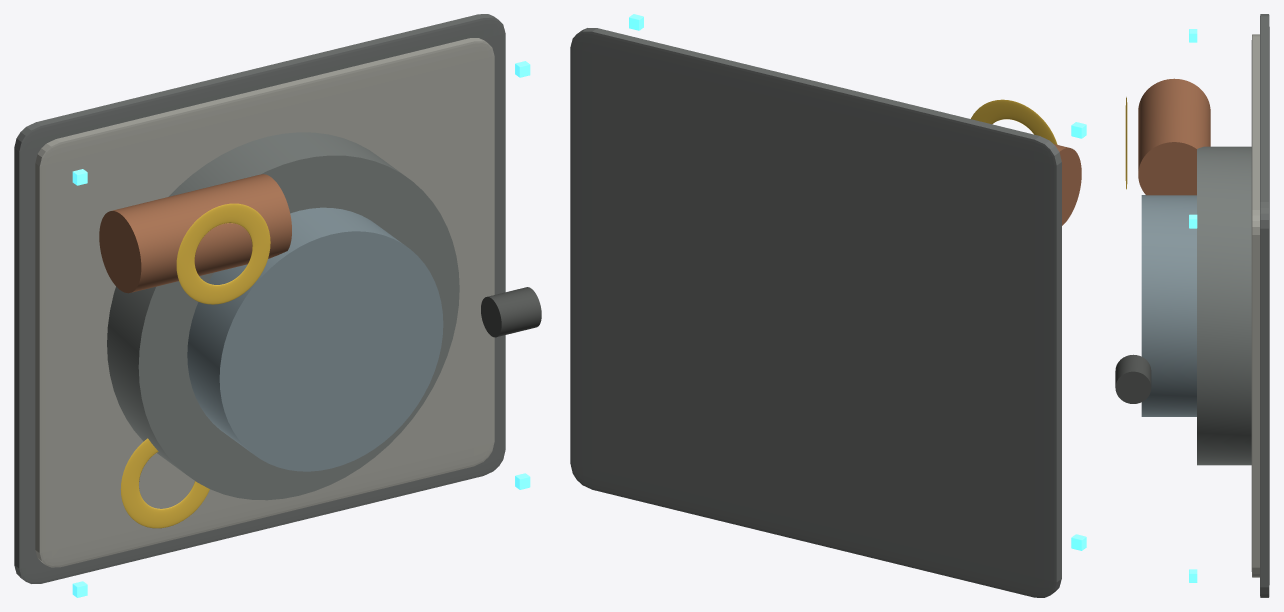
File: b-36-flame-tower-lod2.glb
3 views of the same model, side by side, from view 1: azimuth 30°, elevation 25°; view 2: azimuth 150°, elevation 25°; view 3: azimuth 270°, elevation 25° (orthographic). The views are drawn at different scales.
Parts seen in each view (by area): view 1: foundation_inner_pad, primary_turret_yaw, turret_base, foundation, flame_fuel_2.6_vessel, flame_fuel_2.6_ring_high, flame_fuel_-2.6_ring_low, flame_projector_muzzle_0; view 2: foundation, flame_fuel_2.6_ring_high, flame_fuel_2.6_vessel; view 3: turret_base, primary_turret_yaw, flame_fuel_2.6_vessel, foundation, foundation_inner_pad, flame_projector_muzzle_0, flame_fuel_2.6_ring_high.
Part boxes in pixels (x1,y1,x2,y2): foundation_inner_pad: (35,38,494,567); primary_turret_yaw: (187,207,443,471); turret_base: (107,132,459,500); foundation: (14,14,505,583); flame_fuel_2.6_vessel: (99,174,291,293); flame_fuel_2.6_ring_high: (176,203,270,304); flame_fuel_-2.6_ring_low: (120,438,209,528); flame_projector_muzzle_0: (481,287,541,337); foundation: (570,28,1061,597); flame_fuel_2.6_ring_high: (971,99,1057,144); flame_fuel_2.6_vessel: (1054,144,1081,225); turret_base: (1197,146,1251,465); primary_turret_yaw: (1141,195,1196,416); flame_fuel_2.6_vessel: (1138,78,1210,195); foundation: (1260,14,1269,597); foundation_inner_pad: (1251,34,1259,577); flame_projector_muzzle_0: (1115,354,1151,403); flame_fuel_2.6_ring_high: (1125,97,1127,189).
Size of what is drawn, in the model's own units: 10 by 9 by 3.19.
